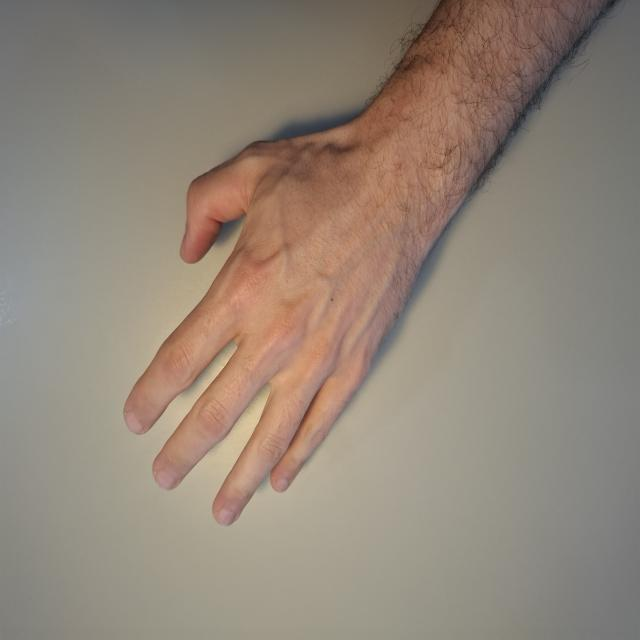glove_off: (122, 114, 424, 530)
